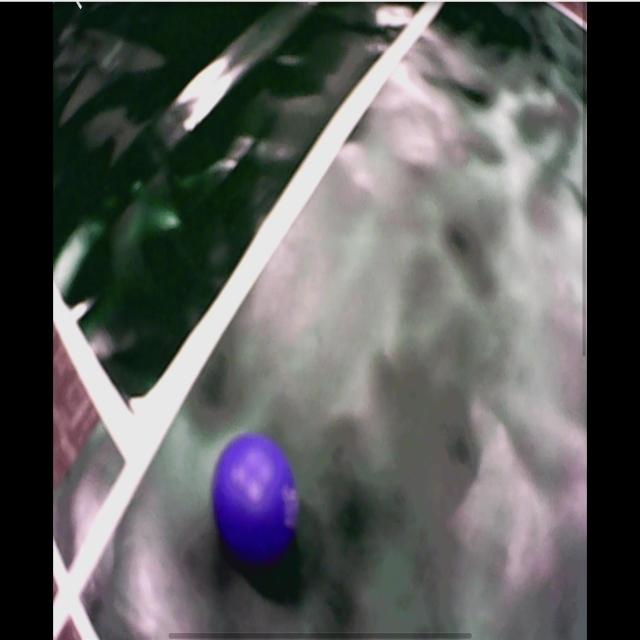ball: (212, 433, 301, 564)
